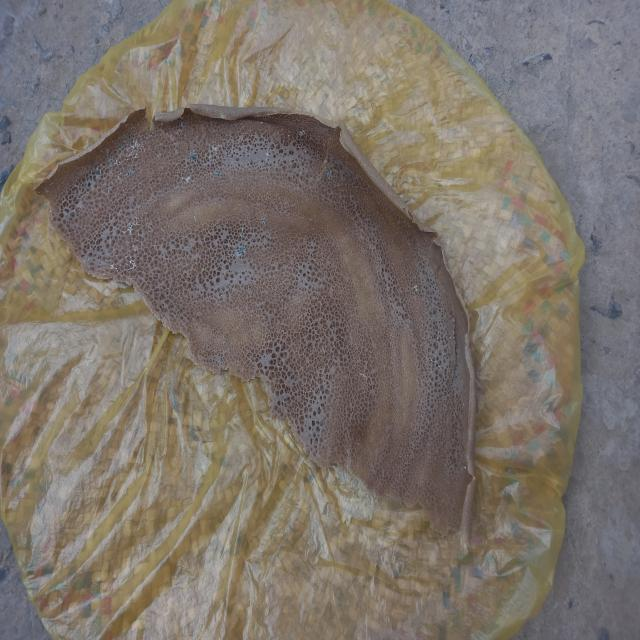injera_mold: (73, 187, 82, 202), (130, 260, 136, 270), (328, 170, 333, 182), (238, 246, 244, 255), (95, 167, 99, 180), (414, 284, 419, 294), (184, 176, 190, 184), (260, 218, 266, 226), (127, 170, 133, 178), (126, 147, 130, 159), (448, 406, 454, 414), (462, 400, 466, 412), (322, 157, 328, 165), (191, 152, 196, 161), (85, 254, 90, 263), (132, 146, 136, 157), (108, 159, 114, 166), (127, 224, 131, 234), (239, 230, 245, 236), (64, 208, 68, 217), (429, 358, 436, 363), (117, 267, 121, 275), (124, 265, 128, 273), (90, 160, 94, 168), (105, 146, 109, 154), (216, 171, 221, 177), (211, 144, 216, 150), (133, 221, 139, 226), (44, 188, 49, 194), (157, 152, 162, 158), (260, 121, 265, 127), (438, 364, 443, 370), (298, 130, 302, 137), (122, 230, 126, 237), (117, 173, 120, 182), (87, 182, 91, 188), (70, 214, 78, 217), (116, 145, 122, 149), (134, 140, 138, 146), (109, 265, 115, 269), (304, 150, 308, 156), (456, 398, 460, 404), (463, 465, 467, 471), (125, 255, 128, 262), (200, 187, 204, 192), (141, 141, 143, 151), (50, 184, 54, 189), (266, 151, 269, 157), (160, 228, 163, 234), (437, 329, 438, 347), (449, 335, 452, 341), (282, 148, 285, 154), (116, 160, 121, 163), (194, 216, 196, 222), (128, 135, 131, 139), (181, 122, 184, 126), (135, 215, 137, 220), (74, 231, 77, 234), (288, 134, 289, 141), (132, 245, 134, 248), (132, 199, 134, 202), (156, 132, 159, 134), (108, 192, 110, 194), (122, 189, 124, 191), (137, 233, 141, 234), (74, 208, 74, 212)
